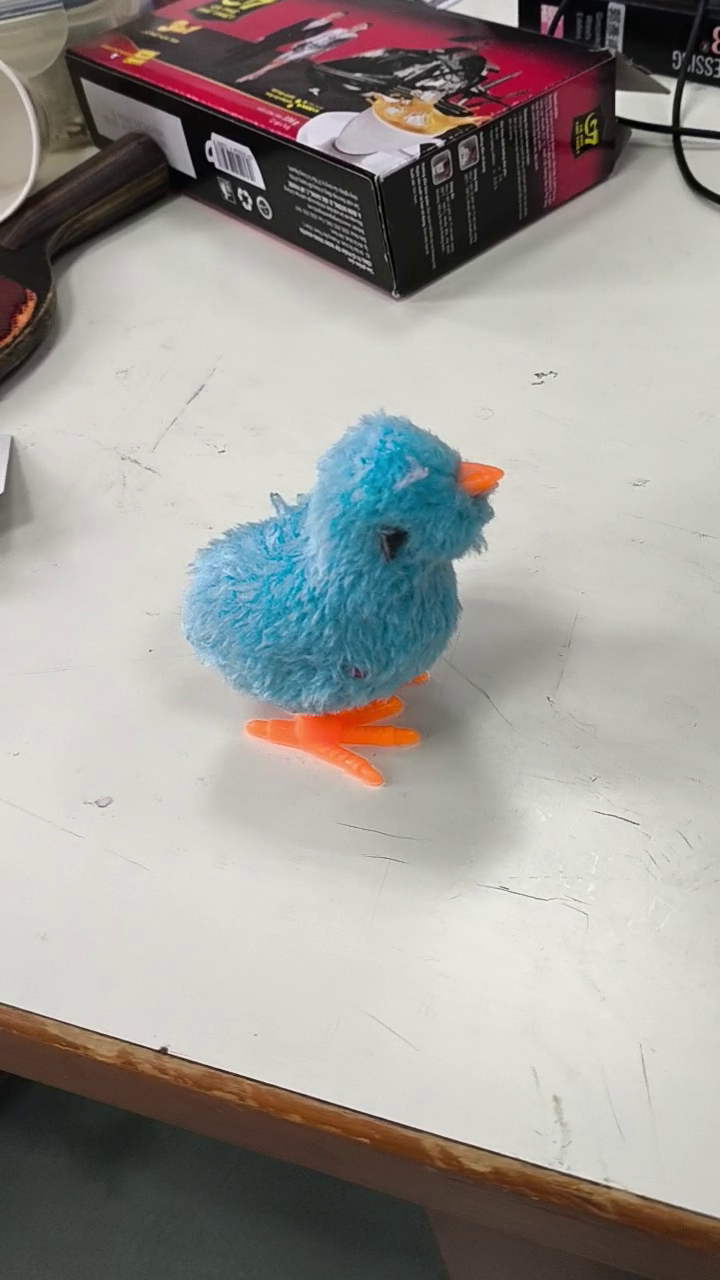blue chicken: (175, 399, 518, 797)
